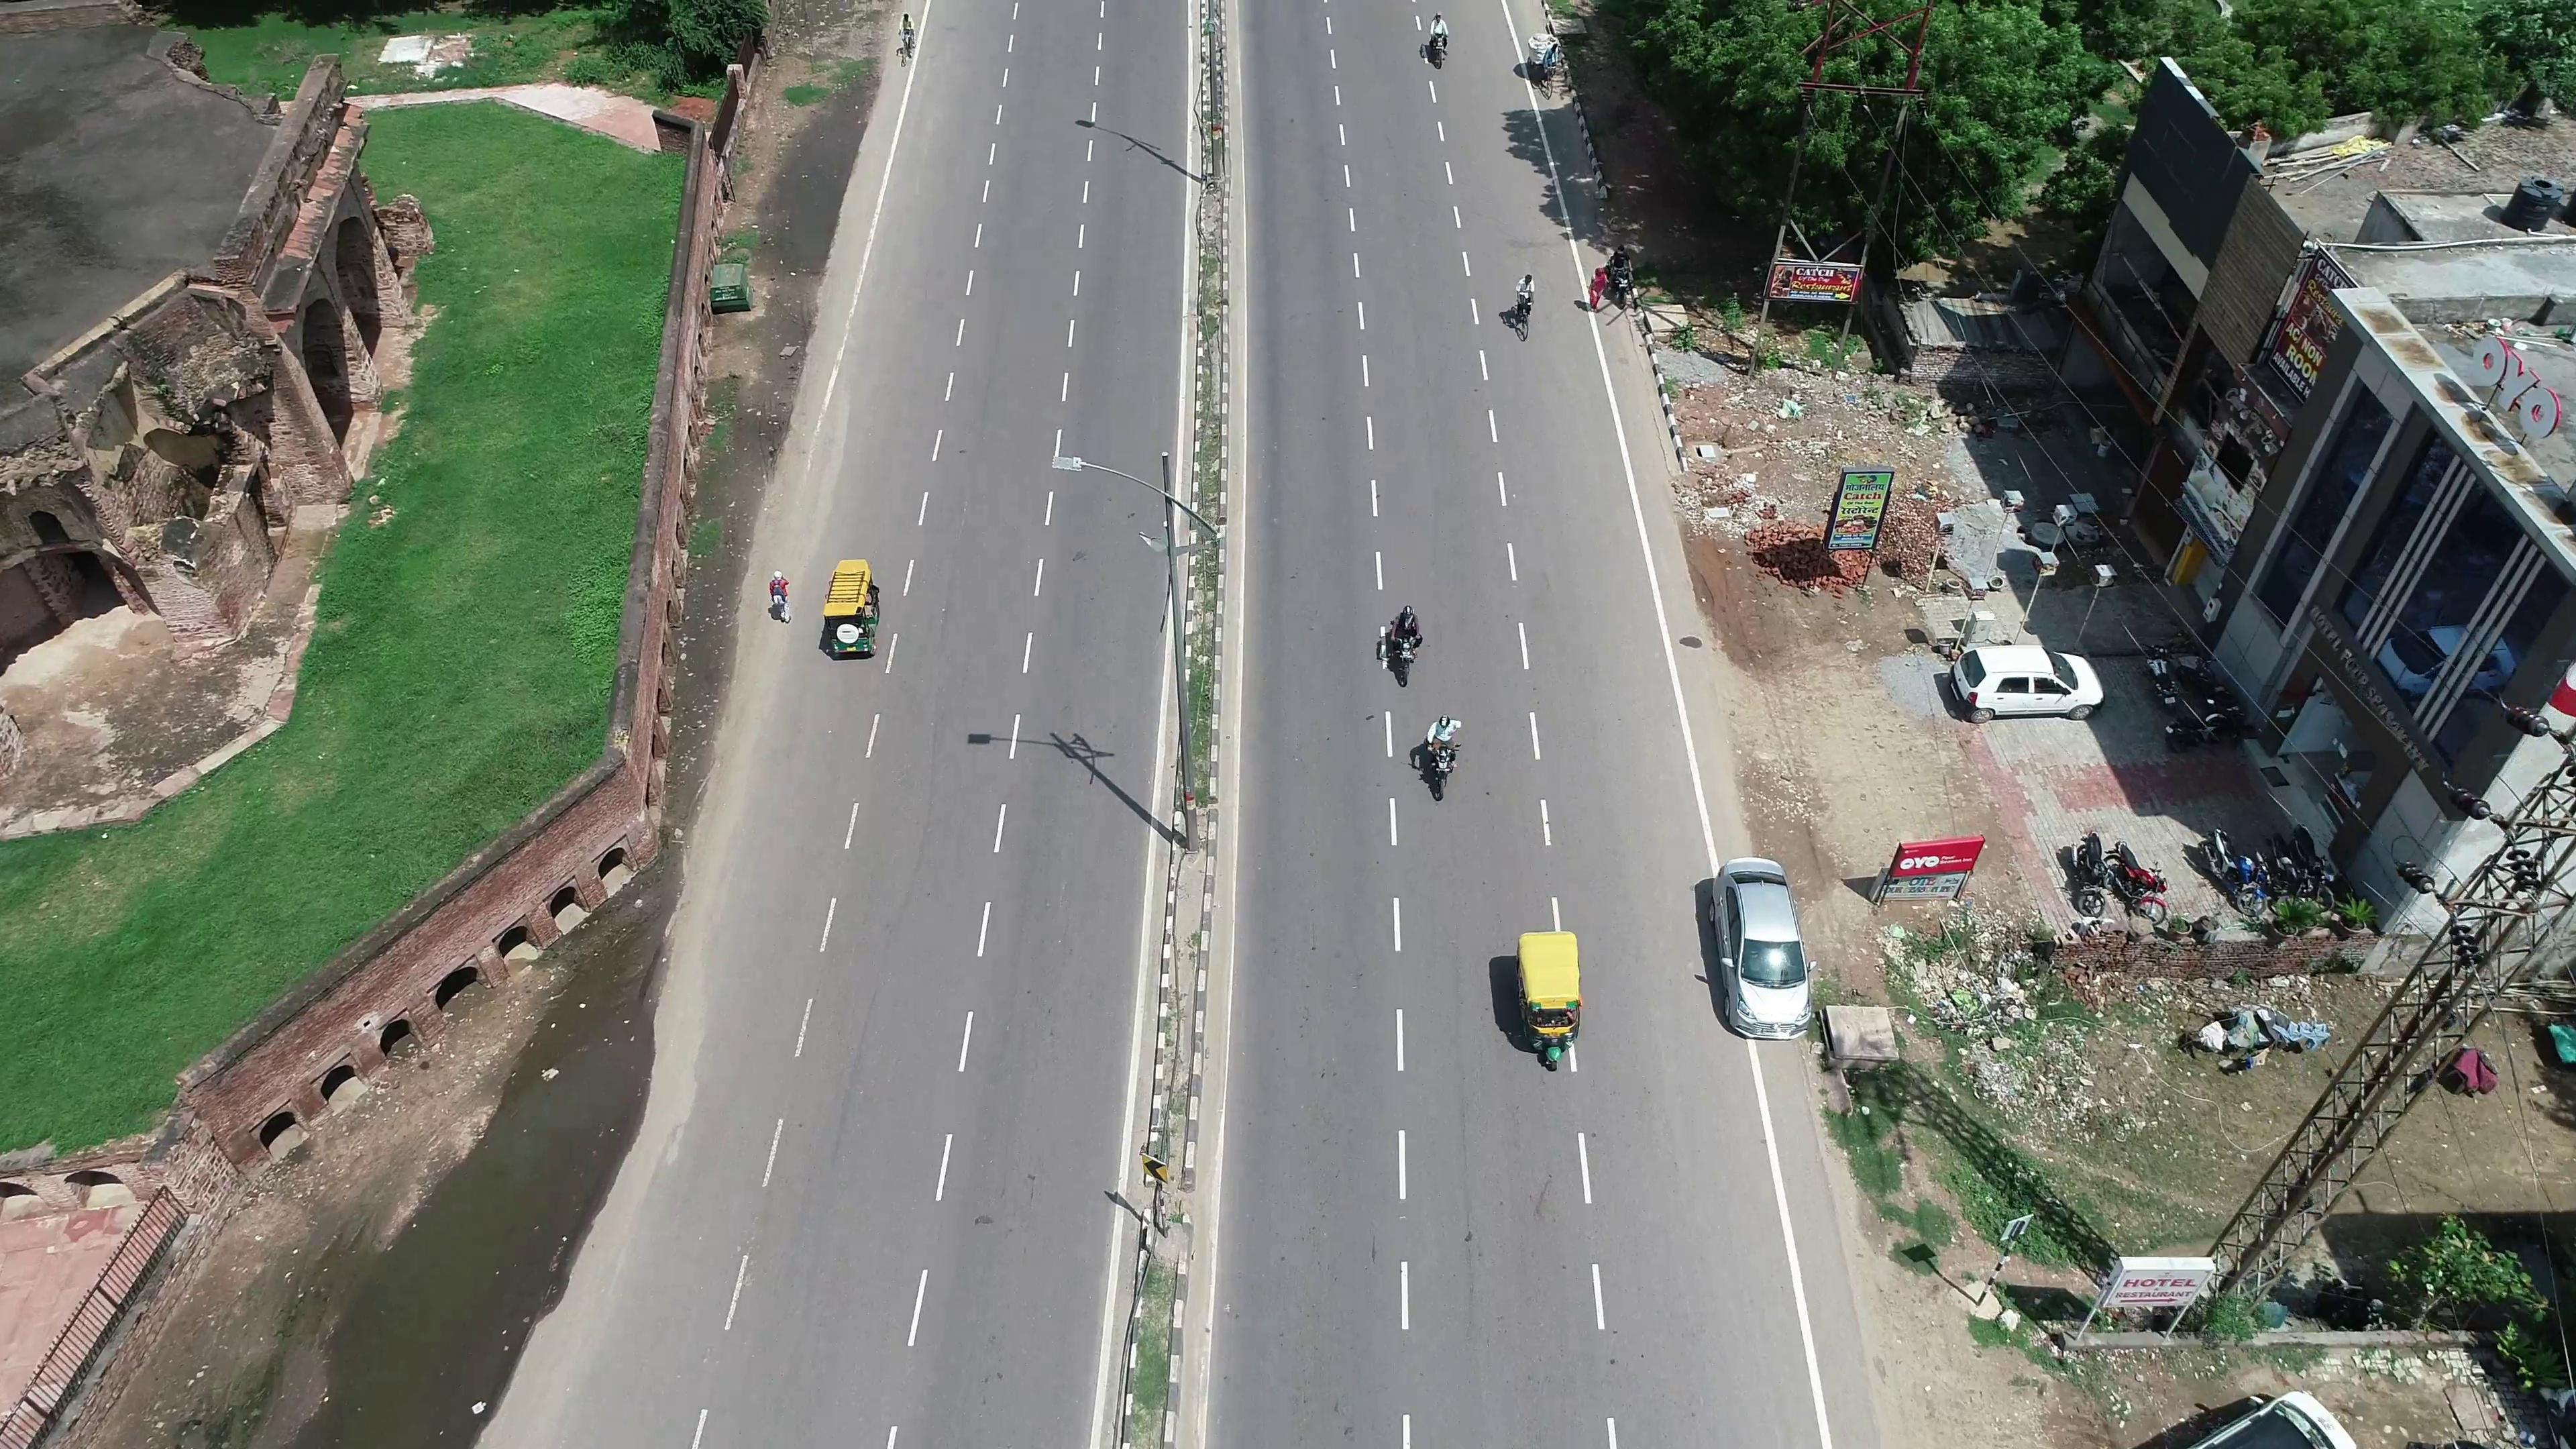Waterlogging: (329, 1012, 640, 1430)
